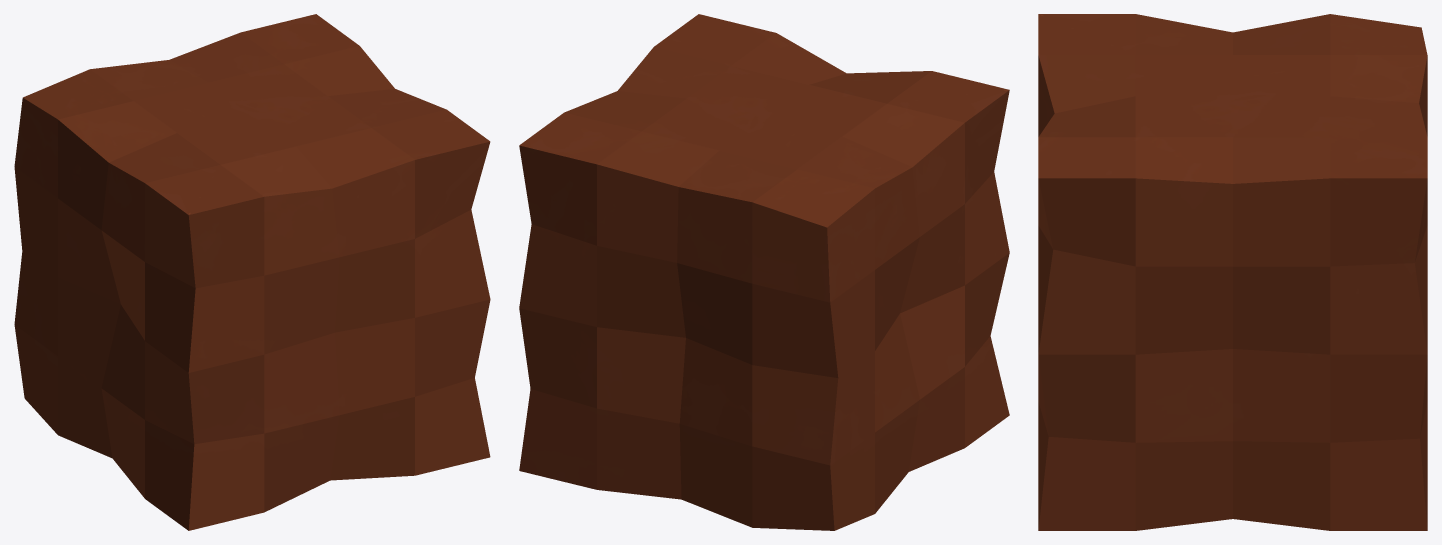
File: soil.glb
3 renders of one model, left to right at view 1: azimuth 30°, elevation 25°; view 2: azimuth 150°, elevation 25°; view 3: azimuth 270°, elevation 25°, orthographic. The views are drawn at different scales.
Parts seen in each view (by area): view 1: Cube; view 2: Cube; view 3: Cube.
Part boxes in pixels (x1=…): Cube: x1=14, y1=14, x2=490, y2=530; Cube: x1=519, y1=14, x2=1009, y2=530; Cube: x1=1038, y1=14, x2=1427, y2=530.
Bounding box in the file's own units: 1 × 1 × 1.
Materials: 1 (1 with a texture image).
